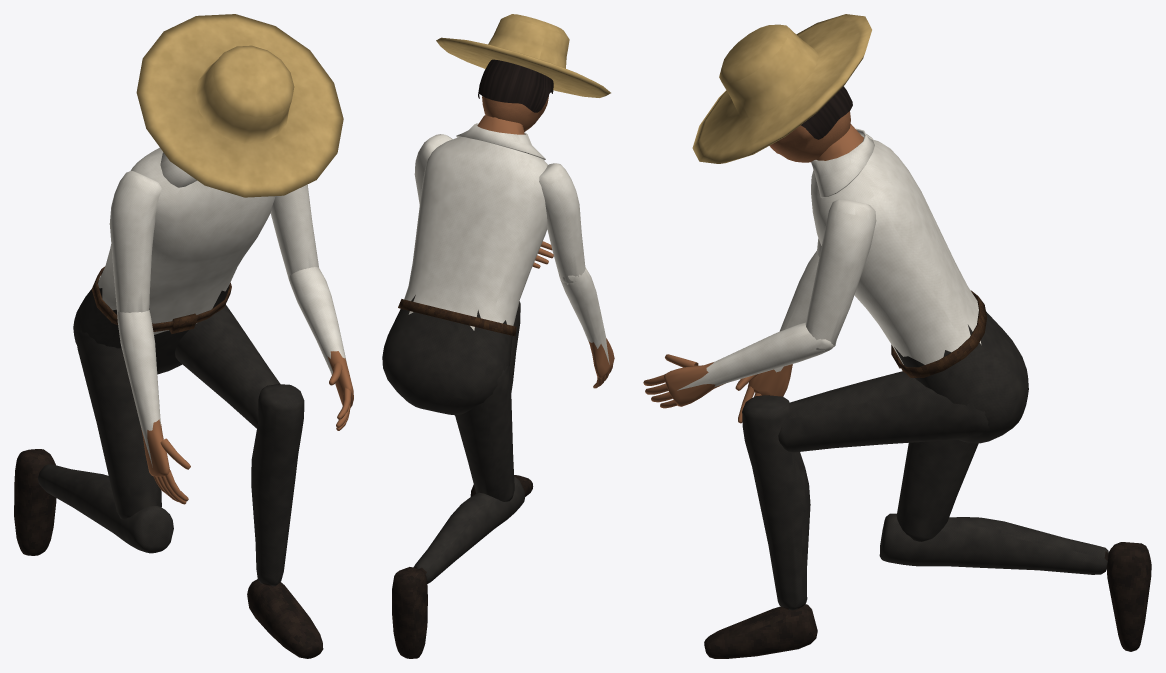
The model's file is persona_hombre_agachado_medio.obj.
The picture shows the model from 3 angles, left to right: view 1: azimuth 30°, elevation 25°; view 2: azimuth 150°, elevation 25°; view 3: azimuth 270°, elevation 25°; orthographic projection. The views are drawn at different scales.
Visible parts, largest first — view 1: persona_hombre_agachado; view 2: persona_hombre_agachado; view 3: persona_hombre_agachado.
Boxes of the visible parts, <box> form: persona_hombre_agachado: <box>14,14,353,658</box>; persona_hombre_agachado: <box>382,14,614,658</box>; persona_hombre_agachado: <box>643,14,1151,658</box>.
Size of the model in its own units: 0.4794 by 1.45 by 1.05.
Materials: 13 (13 with a texture image).
